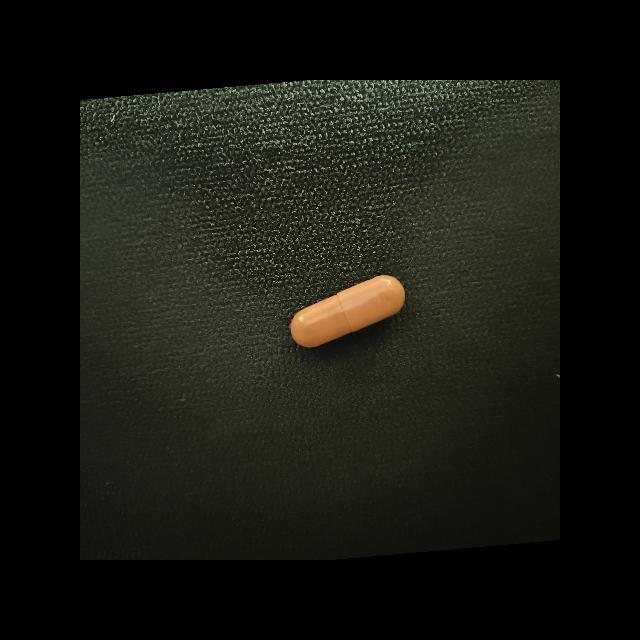Intact Capsule: (290, 275, 405, 347)
